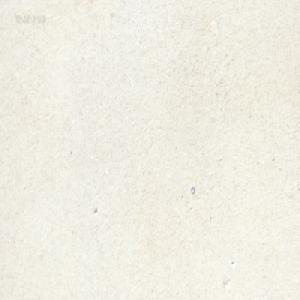Washer: (190, 185, 195, 194)
